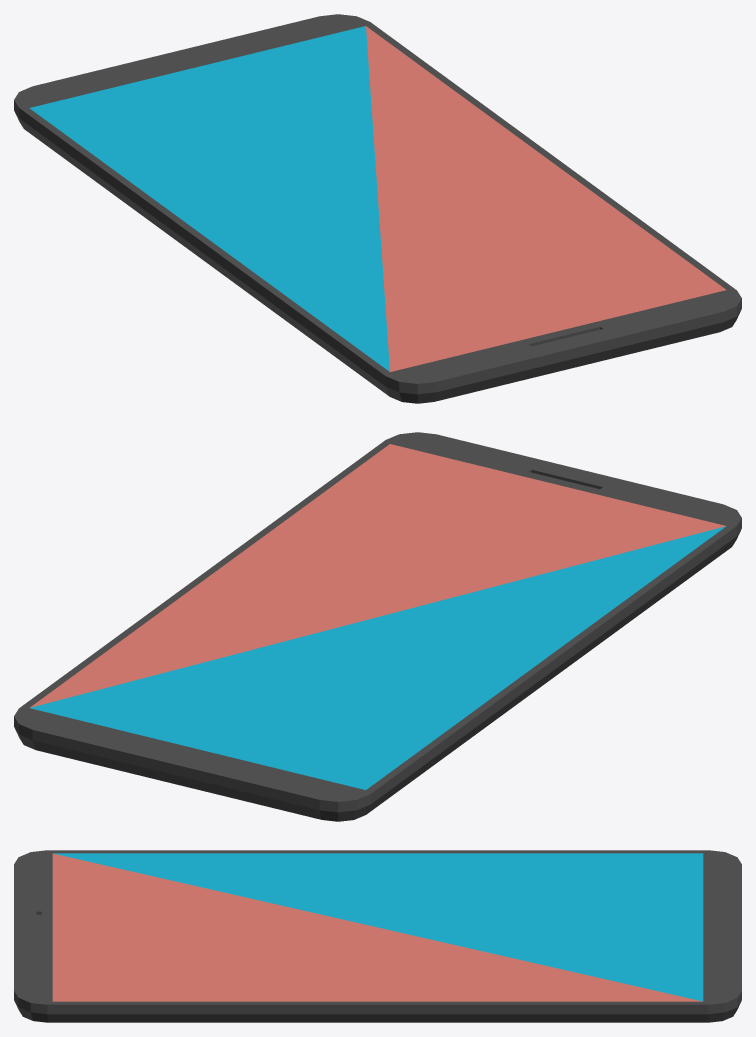
Rendered from smartphone.gltf.
3 views of the same model, one above another, from view 1: azimuth 30°, elevation 25°; view 2: azimuth 150°, elevation 25°; view 3: azimuth 270°, elevation 25° (orthographic). The views are drawn at different scales.
Visible parts, largest first — view 1: Phone_01_Cube.037; view 2: Phone_01_Cube.037; view 3: Phone_01_Cube.037.
Boxes of the visible parts, left/top/right/bottom form: Phone_01_Cube.037: left=14, top=14, right=741, bottom=403; Phone_01_Cube.037: left=14, top=432, right=741, bottom=821; Phone_01_Cube.037: left=14, top=850, right=741, bottom=1022.
Size of the model in its own units: 0.0616 by 0.00453 by 0.1226.
